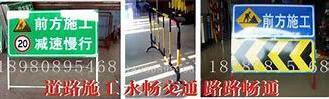sign: (230, 3, 316, 73), (7, 9, 98, 56)
